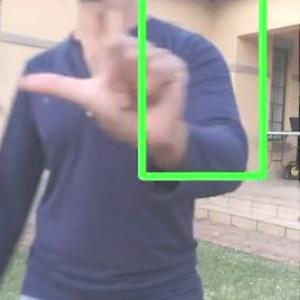land_hand: (12, 0, 195, 157)
